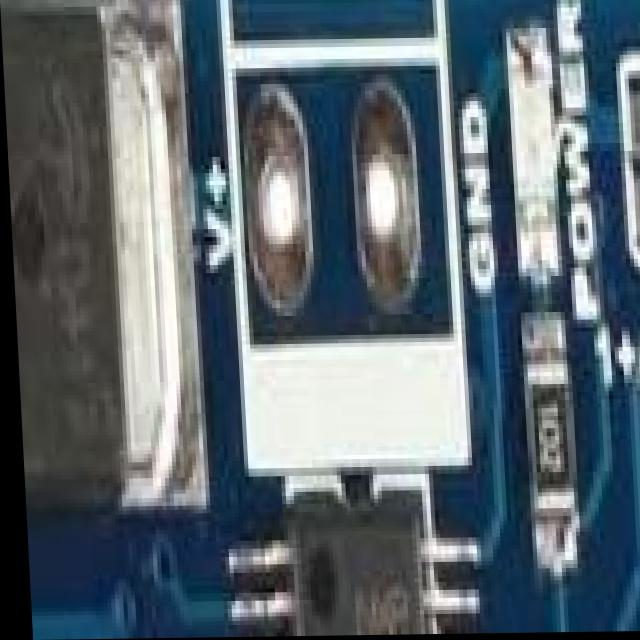IC: (1, 34, 188, 500), (264, 483, 434, 637)
LED: (514, 34, 558, 300)
resistor: (519, 370, 570, 538)
